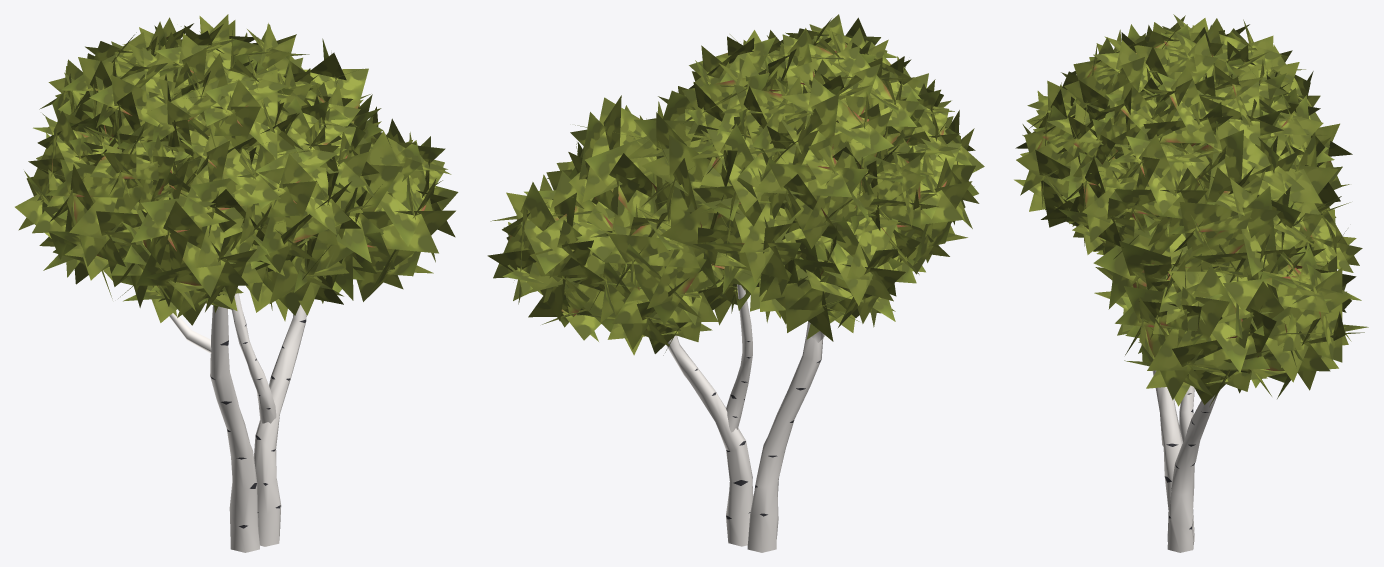
The model's file is Birch_Tree_2.glb.
3 renders of one model, left to right at view 1: azimuth 30°, elevation 25°; view 2: azimuth 150°, elevation 25°; view 3: azimuth 270°, elevation 25°, orthographic. The views are drawn at different scales.
Visible parts, largest first — view 1: Birch_Tree_2; view 2: Birch_Tree_2; view 3: Birch_Tree_2.
Boxes of the visible parts, box(x1,y1,x2,y2) form: Birch_Tree_2: box(15, 14, 458, 552); Birch_Tree_2: box(487, 14, 984, 552); Birch_Tree_2: box(1014, 14, 1368, 552).
Bounding box in the file's own units: 7.21 × 8.82 × 5.84.
2 materials, 2 textured.
